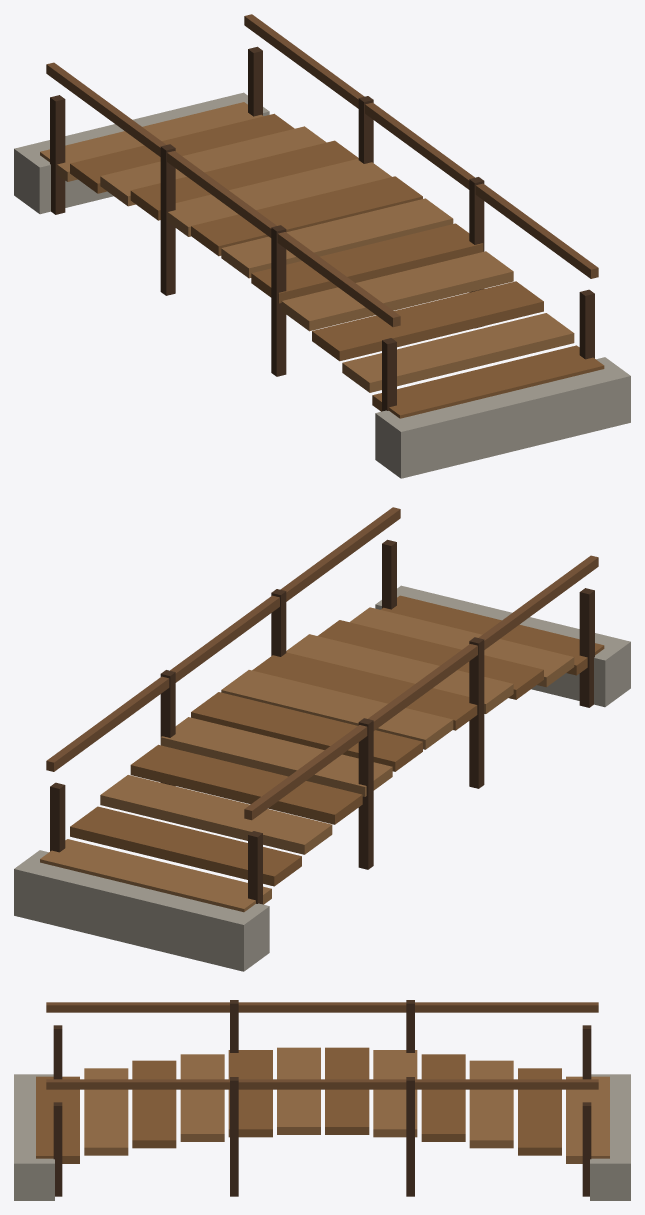
File: wooden_bridge.glb
3 renders of one model, top to bottom at view 1: azimuth 30°, elevation 25°; view 2: azimuth 150°, elevation 25°; view 3: azimuth 270°, elevation 25°, orthographic. The views are drawn at different scales.
Parts seen in each view (by area): view 1: wooden_bridge; view 2: wooden_bridge; view 3: wooden_bridge.
Part boxes in pixels (x1,y1,x2,y2): wooden_bridge: (14, 14, 630, 478); wooden_bridge: (14, 507, 630, 971); wooden_bridge: (14, 1000, 630, 1200).
Size of the model in its own units: 3.6 by 2.18 by 10.5.
